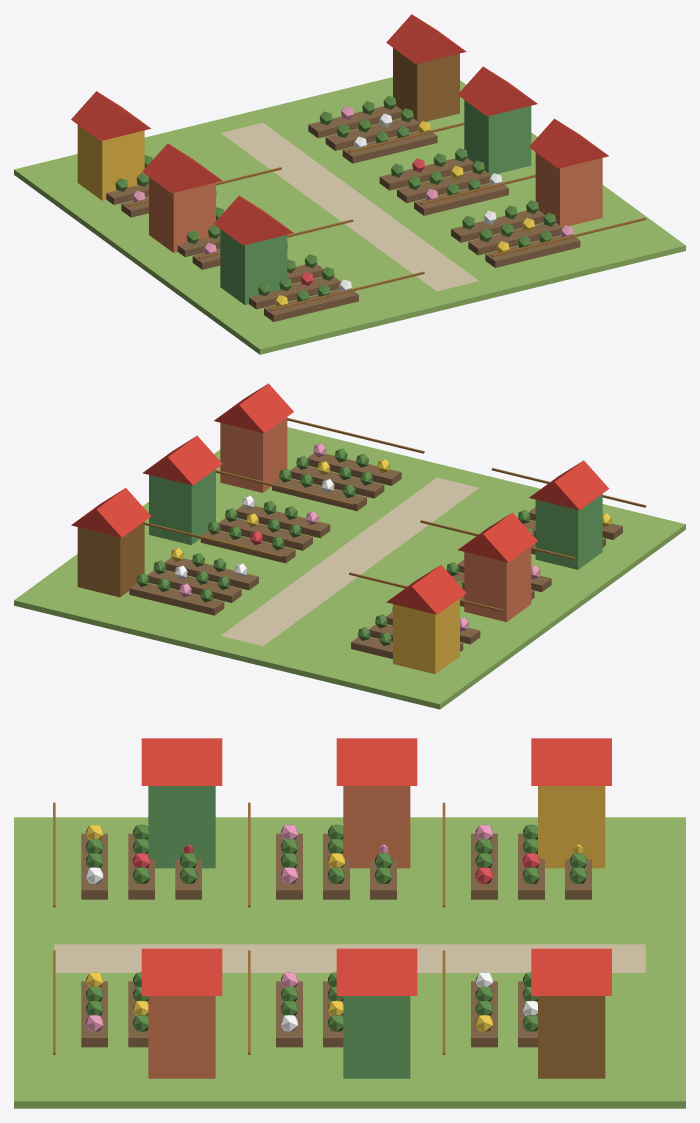
Rendered from Park_cim_hobi_Hafif.fbx.
3 views of the same model, one above another, from view 1: azimuth 30°, elevation 25°; view 2: azimuth 150°, elevation 25°; view 3: azimuth 270°, elevation 25° (orthographic). The views are drawn at different scales.
Parts seen in each view (by area): view 1: Park_cim_hobi_Hafif; view 2: Park_cim_hobi_Hafif; view 3: Park_cim_hobi_Hafif.
Boxes of the visible parts, x1,y1,x2,y2 form: Park_cim_hobi_Hafif: (14,14,685,354); Park_cim_hobi_Hafif: (14,383,685,709); Park_cim_hobi_Hafif: (14,738,685,1108).
Bounding box in the file's own units: 10 × 2.02 × 10.
